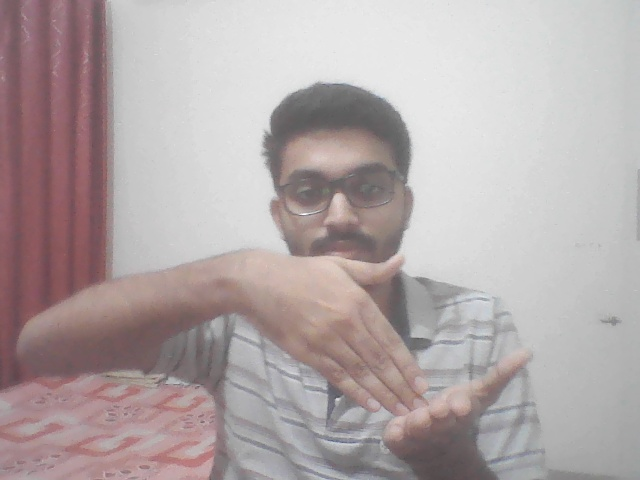again: (227, 237, 543, 464)
